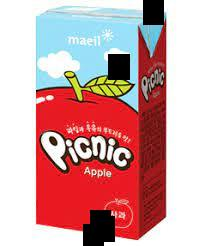picnic_apple: (35, 12, 162, 235)
